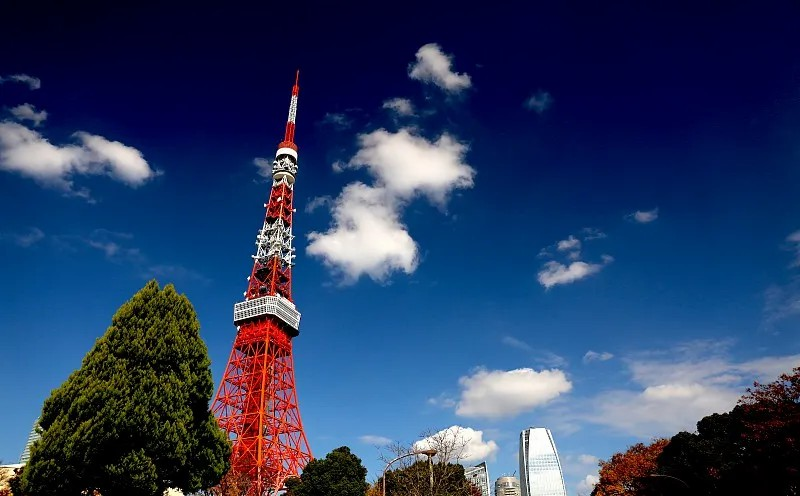Tokyo: (204, 67, 316, 496)
